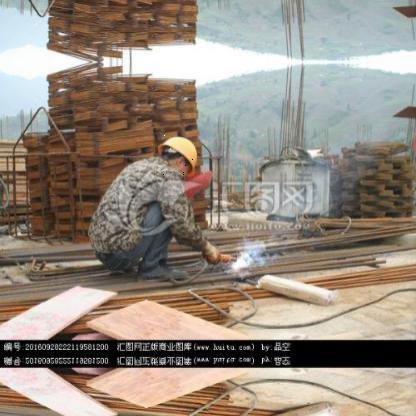safetyhelmet: (157, 134, 198, 178)
